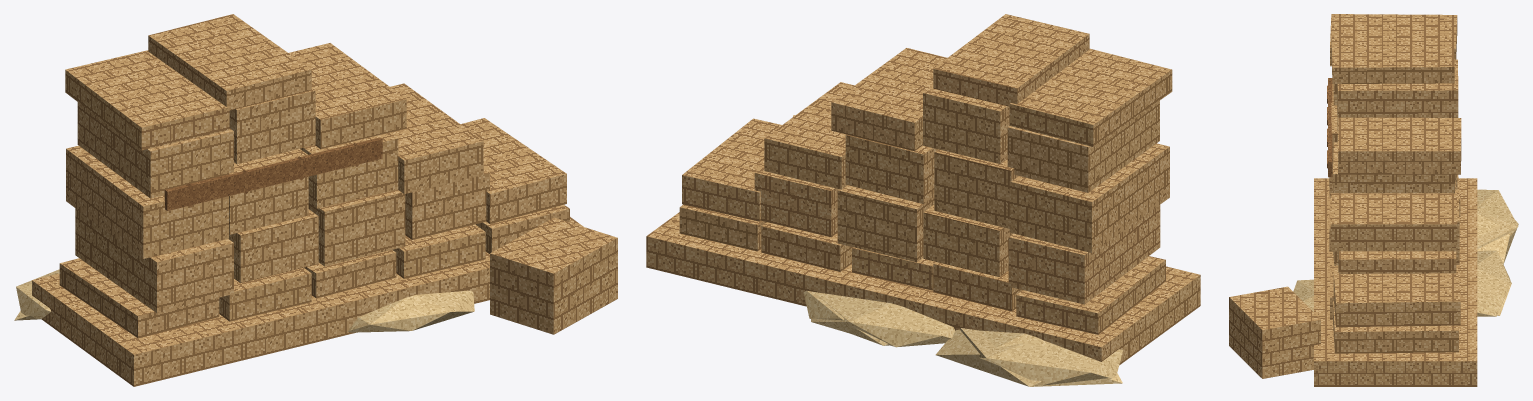
The model's file is cover_ruin_sand.glb.
3 views of the same model, side by side, from view 1: azimuth 30°, elevation 25°; view 2: azimuth 150°, elevation 25°; view 3: azimuth 270°, elevation 25° (orthographic). The views are drawn at different scales.
Visible parts, largest first — view 1: Body; view 2: Body; view 3: Body.
Boxes of the visible parts, x1=… form: Body: x1=14, y1=14, x2=617, y2=386; Body: x1=646, y1=14, x2=1200, y2=386; Body: x1=1229, y1=14, x2=1518, y2=386.
Bounding box in the file's own units: 3.18 × 1.71 × 2.04.
Materials: 3 (3 with a texture image).
